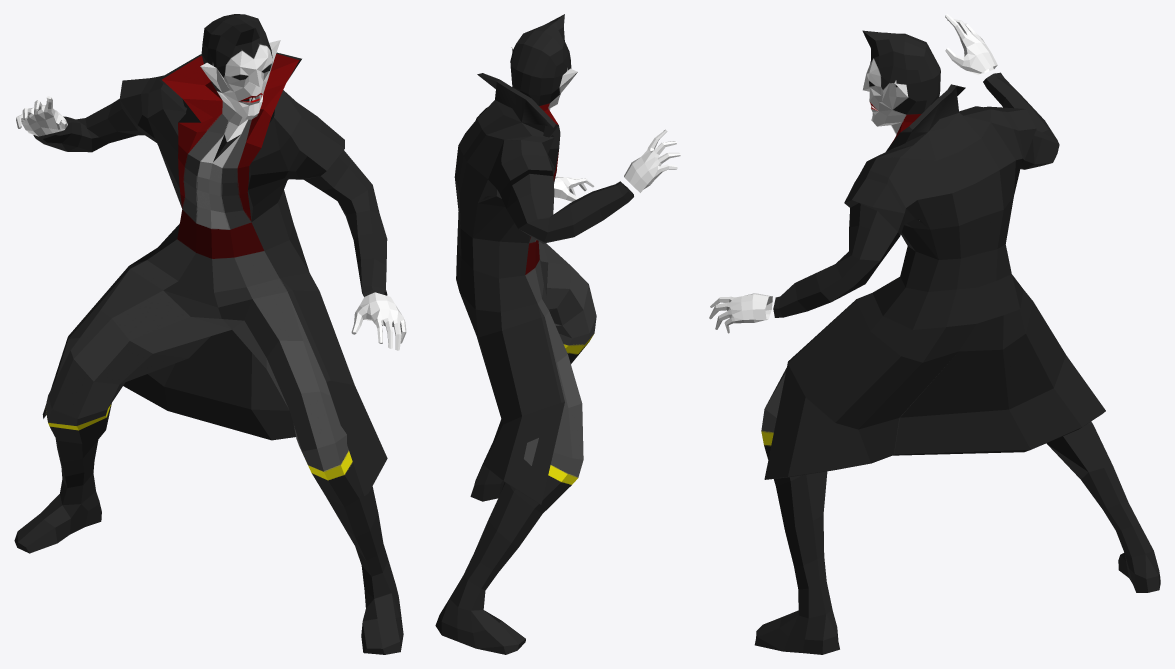
File: VampireAttack(58).obj
3 views of the same model, side by side, from view 1: azimuth 30°, elevation 25°; view 2: azimuth 150°, elevation 25°; view 3: azimuth 270°, elevation 25° (orthographic). The views are drawn at different scales.
Visible parts, largest first — view 1: Plane002; view 2: Plane002; view 3: Plane002.
Boxes of the visible parts, left/top/right/bottom form: Plane002: left=14, top=14, right=406, bottom=654; Plane002: left=435, top=14, right=680, bottom=654; Plane002: left=709, top=14, right=1160, bottom=654.
Size of the model in its own units: 159 by 299 by 214.
